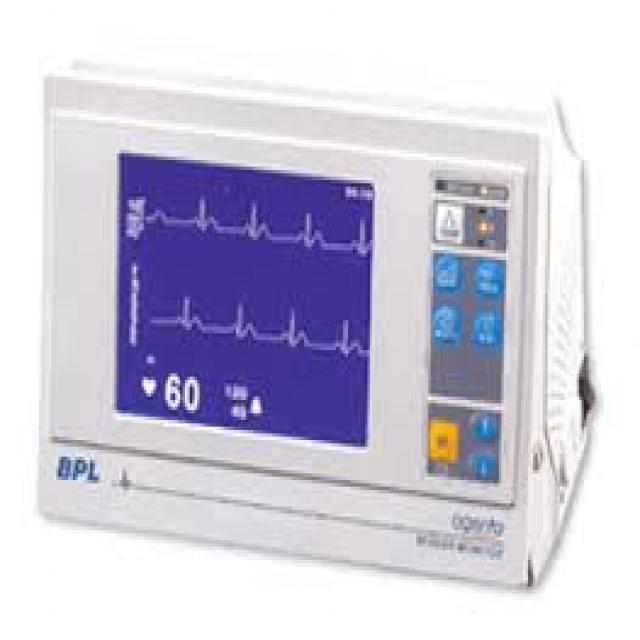cardiac_monitor: (34, 51, 577, 581)
